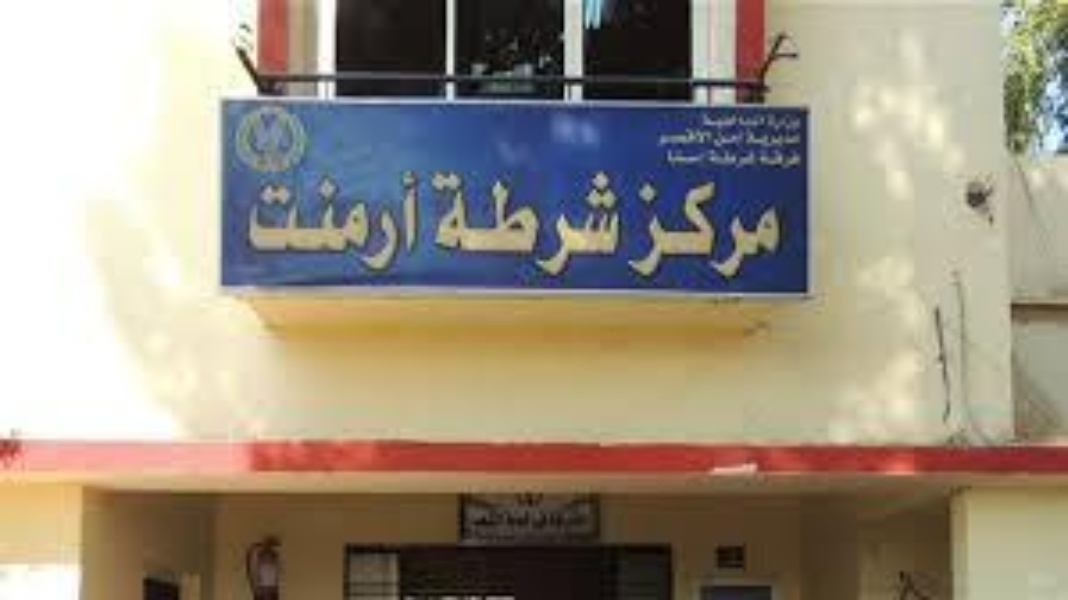text: (257, 161, 272, 276), (273, 161, 288, 276), (289, 161, 304, 276), (305, 161, 320, 276), (321, 161, 336, 276), (337, 161, 352, 276), (353, 161, 368, 276), (369, 161, 384, 276), (385, 161, 400, 276), (401, 161, 416, 276), (433, 165, 448, 279), (449, 165, 464, 279), (465, 165, 480, 279), (481, 165, 496, 279), (497, 165, 512, 279), (513, 165, 528, 279), (529, 165, 544, 279), (545, 165, 560, 279), (561, 165, 576, 279), (577, 165, 592, 279), (593, 165, 608, 279), (625, 179, 640, 283), (641, 179, 656, 283), (657, 179, 672, 283), (673, 179, 688, 283), (689, 179, 704, 283), (705, 179, 720, 283), (721, 179, 736, 283), (737, 179, 752, 283), (753, 179, 768, 283), (609, 165, 622, 279), (769, 179, 783, 283), (247, 161, 256, 276), (417, 161, 426, 276), (426, 165, 432, 279), (465, 501, 480, 529), (481, 501, 496, 529), (497, 501, 512, 529), (513, 501, 528, 529), (529, 501, 544, 529), (545, 501, 560, 529), (561, 501, 576, 529), (577, 501, 592, 529), (657, 126, 672, 151), (673, 126, 688, 151), (689, 126, 704, 151), (705, 126, 720, 151), (721, 126, 736, 151), (737, 126, 752, 151), (753, 126, 768, 151), (769, 126, 784, 151), (785, 126, 800, 151), (673, 147, 688, 172), (689, 147, 704, 172), (705, 147, 720, 172), (721, 147, 736, 172), (737, 147, 752, 172), (753, 147, 768, 172), (769, 147, 784, 172), (785, 147, 800, 172), (658, 147, 672, 172), (705, 108, 720, 129), (721, 108, 736, 129), (737, 108, 752, 129), (753, 108, 768, 129), (769, 108, 784, 129), (785, 108, 800, 129), (593, 501, 601, 529), (622, 179, 624, 283), (801, 147, 808, 172), (697, 108, 704, 129), (461, 501, 464, 529), (801, 126, 804, 151), (801, 108, 804, 129), (654, 126, 656, 151)
